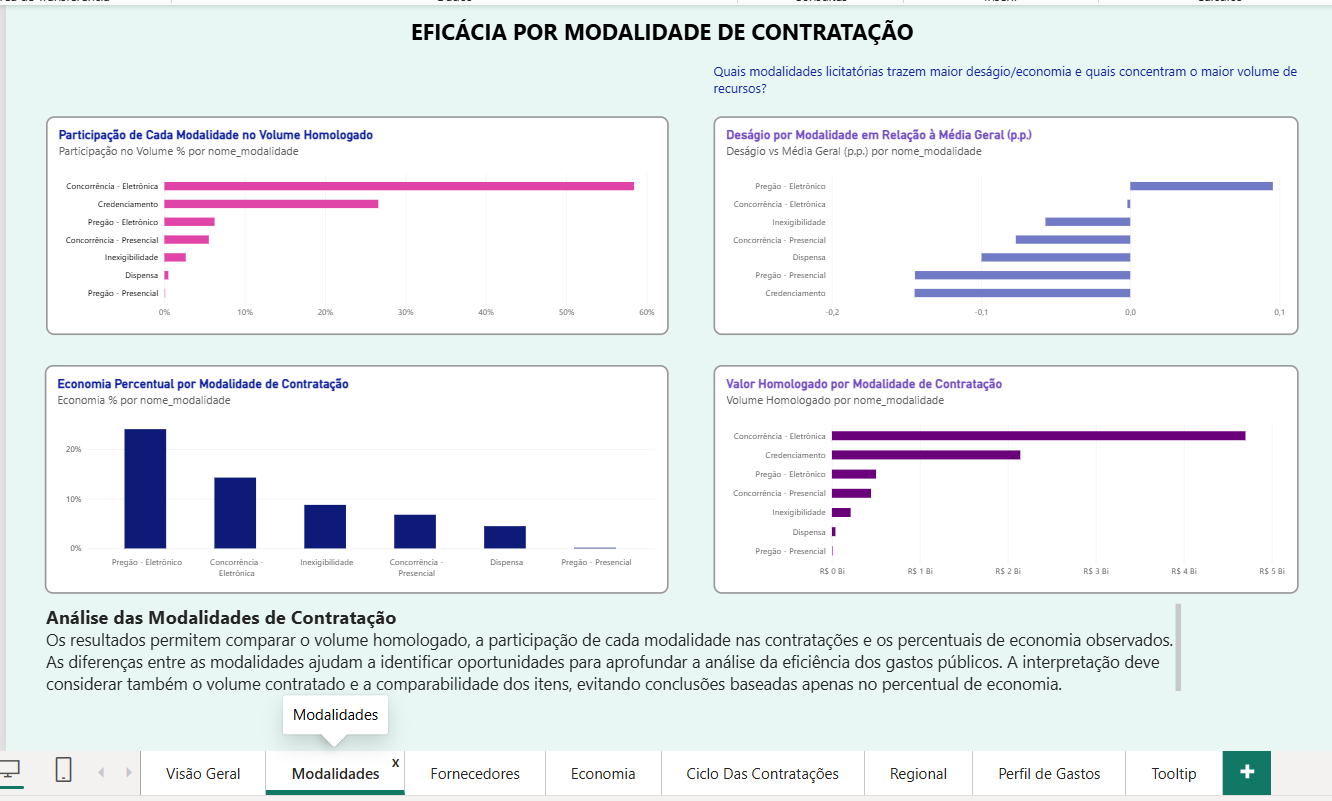

What the dashboard file says about the page in this screenshot:
{"tool":"powerbi","page":{"name":"Modalidades","canvas":[1920,1080],"ordinal":2},"visuals":[{"type":"barChart","title":"Valor Homologado por Modalidade de Contratação","fields":{"Category":["pncp_controladoria dim_modalidade.nome_modalidade"],"Y":["Medidas.Volume Homologado"]},"box":[1024.3,521.2,846.9,331.2],"z":0},{"type":"clusteredBarChart","title":"Participação de Cada Modalidade no Volume Homologado","fields":{"Category":["pncp_controladoria dim_modalidade.nome_modalidade"],"Y":["Medidas.Participação no Volume %"]},"box":[57.9,161.1,901.2,316.7],"z":1000},{"type":"clusteredBarChart","title":"Deságio por Modalidade em Relação à Média Geral (p.p.)","fields":{"Category":["pncp_controladoria dim_modalidade.nome_modalidade"],"Y":["Medidas.Deságio vs Média Geral (p.p.)"]},"box":[1024.3,161.1,846.9,316.7],"z":2000},{"type":"clusteredColumnChart","title":"Economia Percentual por Modalidade de Contratação","fields":{"Category":["pncp_controladoria dim_modalidade.nome_modalidade"],"Y":["Medidas.Economia %"]},"box":[56.1,521.2,903,331.2],"z":3000},{"type":"textbox","box":[57.9,866.8,1643.2,128.5],"z":4000},{"type":"textbox","box":[1024.3,83.2,870.4,63.3],"z":5000},{"type":"textbox","box":[586.3,16.3,861.4,67],"z":6000}]}

Visuals, with their boxes on the page's 1920x1080 design canvas (x1, y1, x2, y2). These are canvas units, not pixel positions in the 1332x801 screenshot, which may show the page scaled, cropped or inside an application window:
"Valor Homologado por Modalidade de Contratação" barChart: pyautogui.locateOnScreen(1024, 521, 1871, 852)
"Participação de Cada Modalidade no Volume Homologado" clusteredBarChart: pyautogui.locateOnScreen(58, 161, 959, 478)
"Deságio por Modalidade em Relação à Média Geral (p.p.)" clusteredBarChart: pyautogui.locateOnScreen(1024, 161, 1871, 478)
"Economia Percentual por Modalidade de Contratação" clusteredColumnChart: pyautogui.locateOnScreen(56, 521, 959, 852)
textbox: pyautogui.locateOnScreen(58, 867, 1701, 995)
textbox: pyautogui.locateOnScreen(1024, 83, 1895, 146)
textbox: pyautogui.locateOnScreen(586, 16, 1448, 83)
